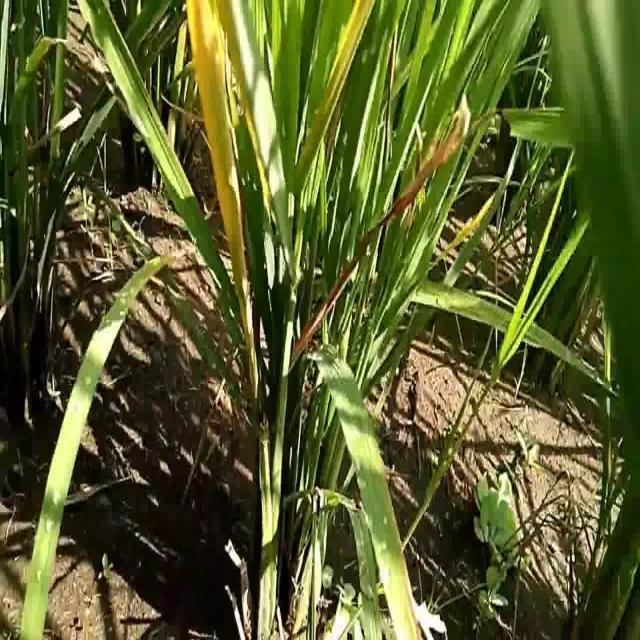Rice Tungro: (183, 3, 248, 289), (325, 3, 377, 117)
